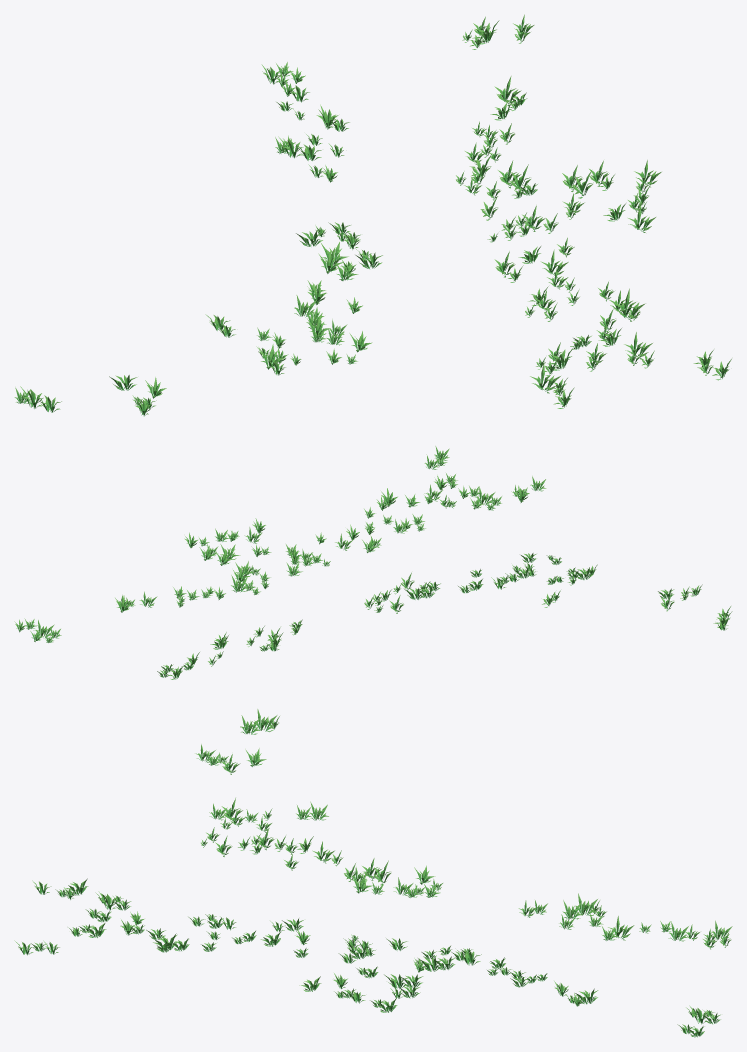
The model's file is Area_08_4.fbx.
3 views of the same model, one above another, from view 1: azimuth 30°, elevation 25°; view 2: azimuth 150°, elevation 25°; view 3: azimuth 270°, elevation 25° (orthographic). The views are drawn at different scales.
Visible parts, largest first — view 1: Area_08_4; view 2: Area_08_4; view 3: Area_08_4.
Boxes of the visible parts, x1,y1,x2,y2 form: Area_08_4: (14, 14, 731, 416); Area_08_4: (14, 446, 732, 679); Area_08_4: (14, 709, 732, 1037).
Size of the model in its own units: 3785 by 118 by 3656.
